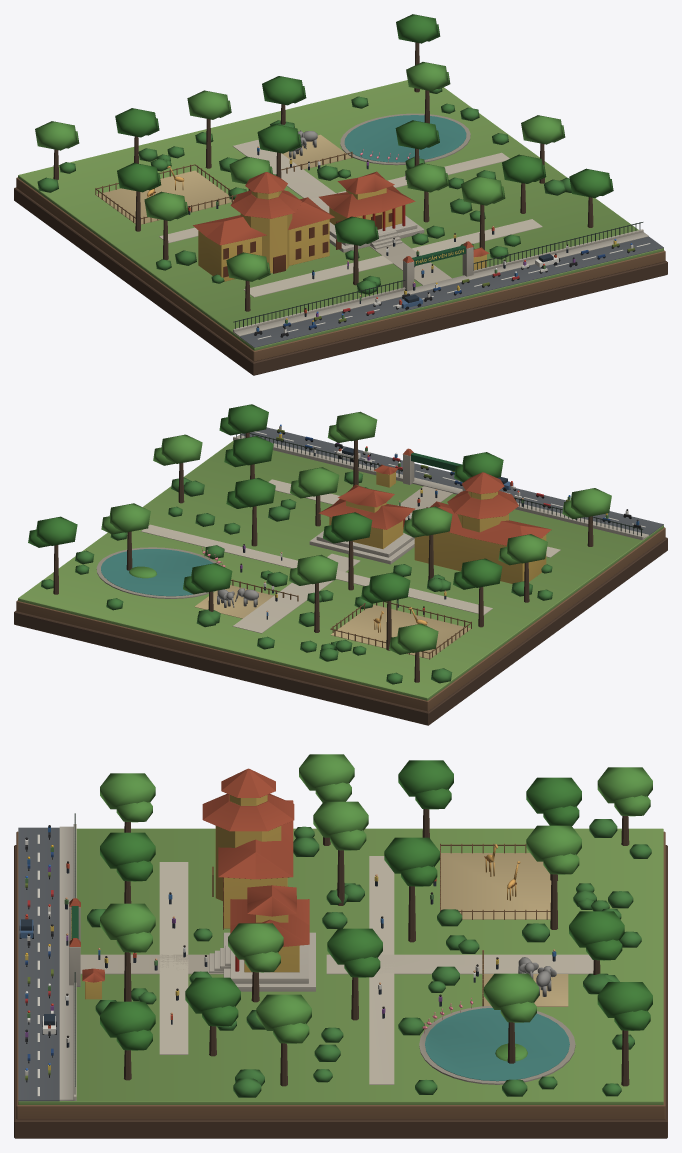
Rendered from thao-cam-vien.glb.
The picture shows the model from 3 angles, top to bottom: view 1: azimuth 30°, elevation 25°; view 2: azimuth 150°, elevation 25°; view 3: azimuth 270°, elevation 25°; orthographic projection. The views are drawn at different scales.
Parts seen in each view (by area): view 1: TC_fence; view 2: TC_fence; view 3: TC_fence.
Part boxes in pixels (left/top/right/bottom): TC_fence: left=14, top=14, right=667, bottom=375; TC_fence: left=14, top=404, right=667, bottom=725; TC_fence: left=14, top=754, right=667, bottom=1138.
Size of the model in its own units: 92 by 24.7 by 92.
2 materials, 2 textured.
